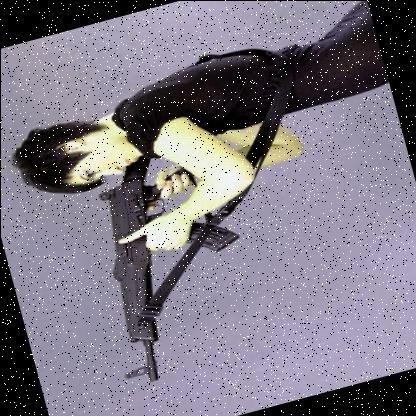rifle: (58, 134, 274, 393)
